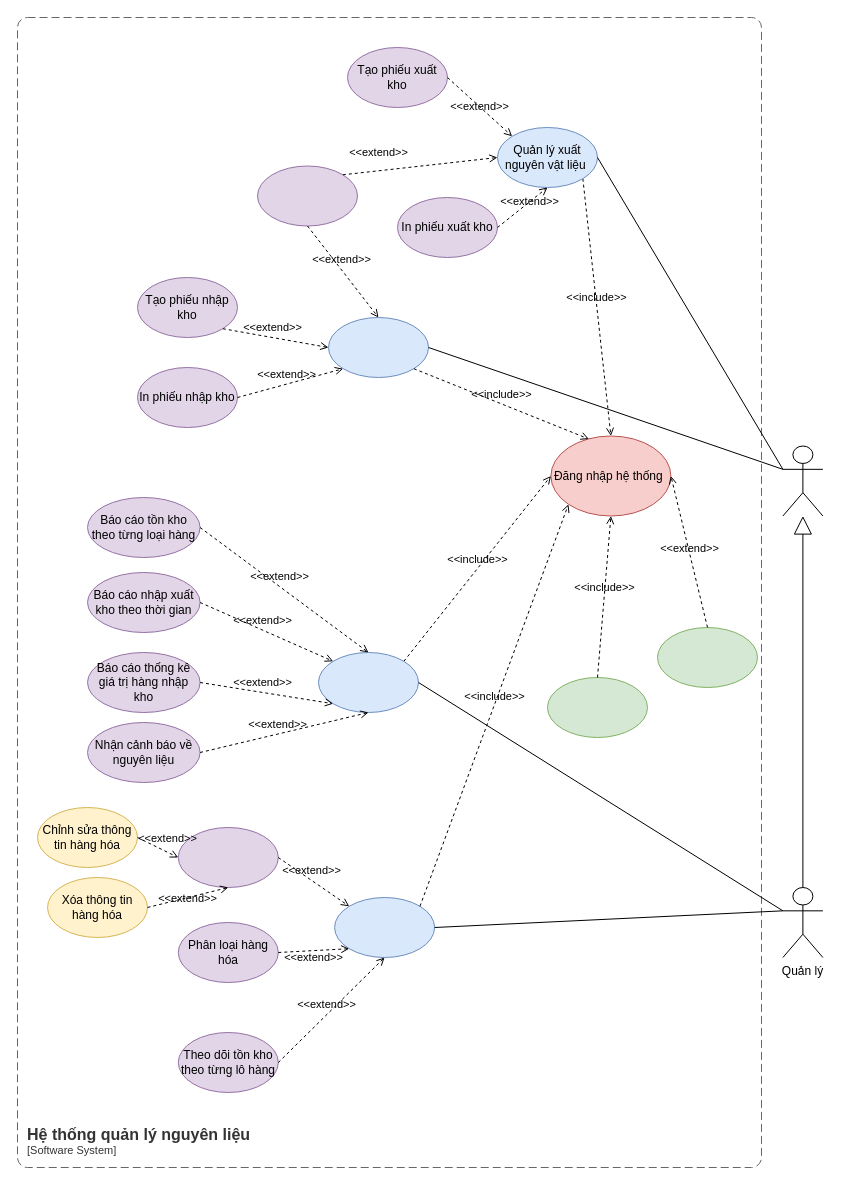
Image size: 847x1185. Some labels were removed from this diagram. The centre of each missing label's shape, as x and y in pixels:
"Cập nhật số lượng hàng tồn" belongs at (x=307, y=195).
"Lấy lại mật khẩu" belongs at (x=707, y=657).
"Nhân viên" belongs at (x=802, y=480).
"Quản lý nguyên liệu trong kho" belongs at (x=384, y=927).
"Quản lý nhập nguyên vật liệu" belongs at (x=378, y=347).
"Quản lý tình hình kho" belongs at (x=368, y=682).
"Tùy chỉnh thông tin hàng hóa" belongs at (x=227, y=857).
"Đăng xuất" belongs at (x=597, y=707).
